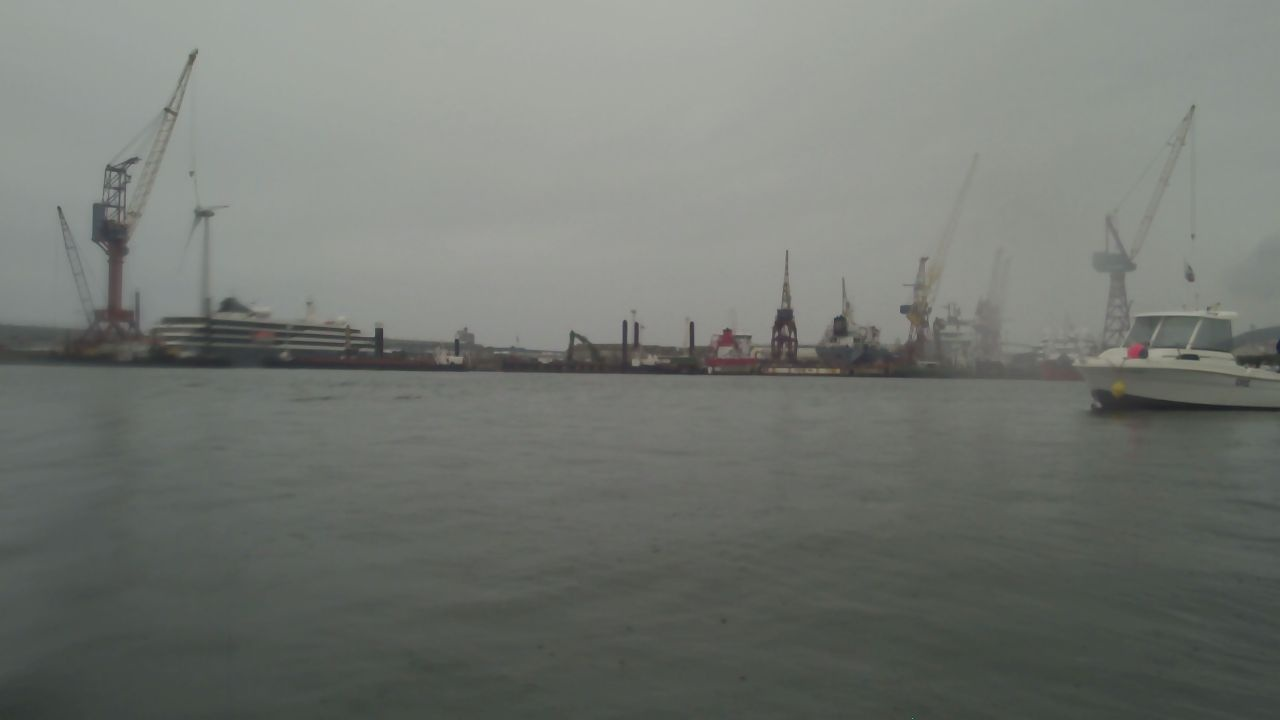Container Ship: (265, 327, 463, 369), (701, 326, 761, 375)
